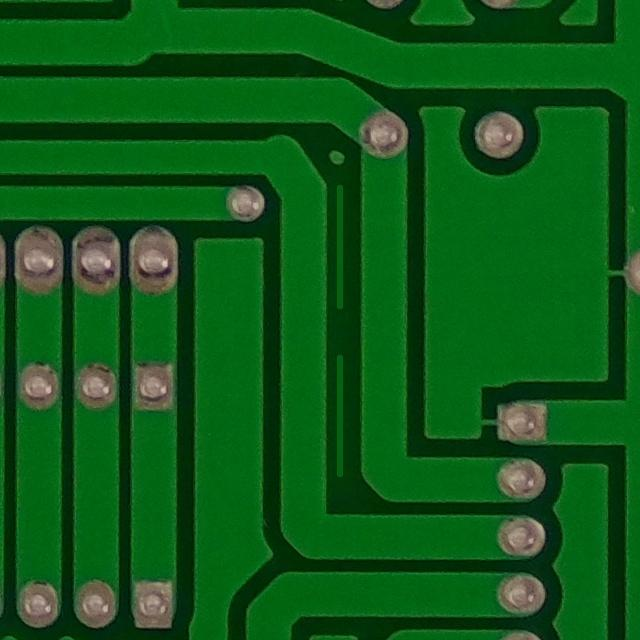spurious_copper: (315, 342, 368, 497), (317, 177, 370, 319)
